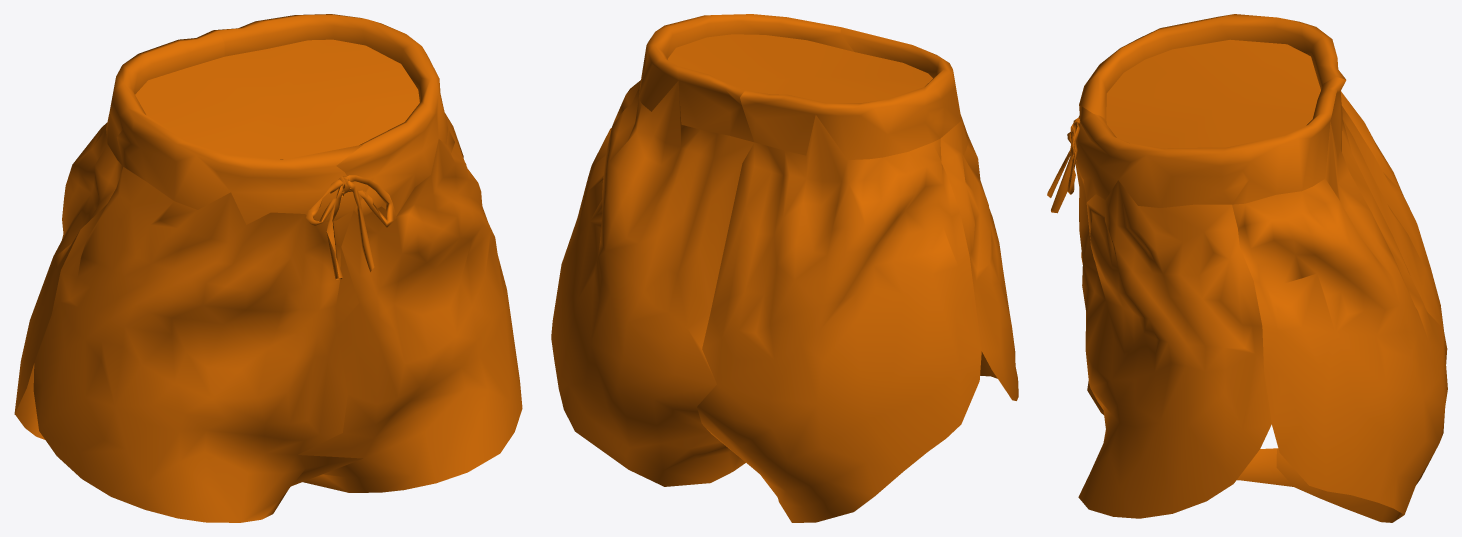
File: calçaofem16.glb
3 renders of one model, left to right at view 1: azimuth 30°, elevation 25°; view 2: azimuth 150°, elevation 25°; view 3: azimuth 270°, elevation 25°, orthographic. The views are drawn at different scales.
Parts seen in each view (by area): view 1: hash_0E4F123C.model; view 2: hash_0E4F123C.model; view 3: hash_0E4F123C.model.
Boxes of the visible parts, x1=… form: hash_0E4F123C.model: x1=14, y1=14, x2=522, y2=522; hash_0E4F123C.model: x1=551, y1=14, x2=1018, y2=522; hash_0E4F123C.model: x1=1047, y1=14, x2=1447, y2=522.
Size of the model in its own units: 0.4464 by 0.3976 by 0.3414.
